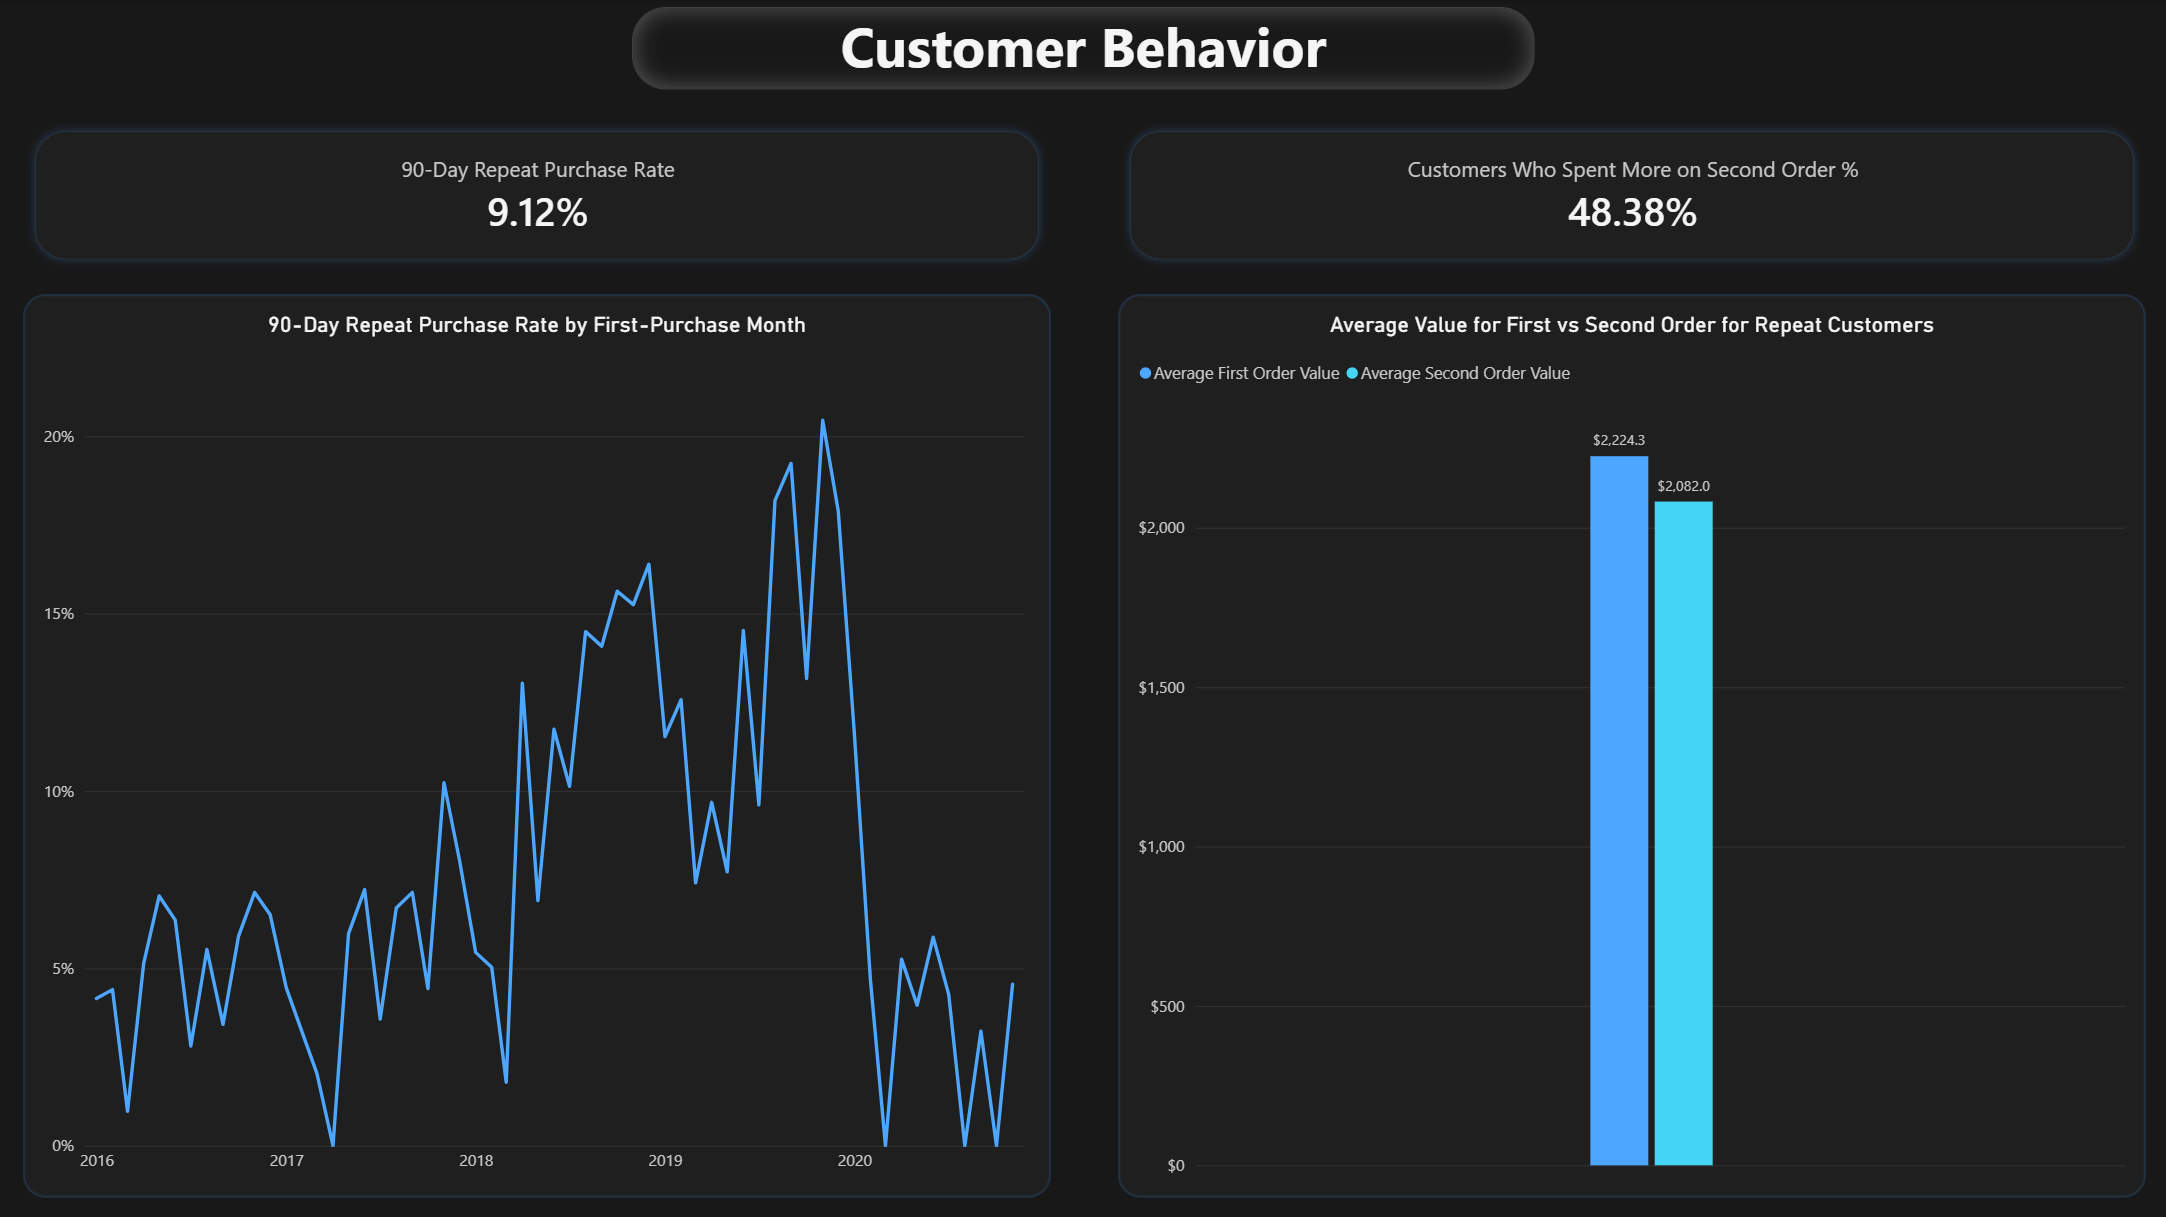

Layout of this report page (visuals, bound fields, positions):
{"tool":"powerbi","page":{"name":"Customer Behavior","canvas":[1920,1080],"ordinal":2},"visuals":[{"type":"textbox","box":[559.5,6.2,799.4,72.6],"z":0},{"type":"lineChart","title":"90-Day Repeat Purchase Rate by First-Purchase Month","fields":{"Category":["Repeat Purchase Cohorts.cohort_month"],"Y":["Sum(Repeat Purchase Cohorts.returned_within_90_days_rate)"]},"box":[20,260,910,800],"z":1000},{"type":"clusteredColumnChart","title":"Average Value for First vs Second Order for Repeat Customers","fields":{"Y":["_Measures.Average First Order Value","_Measures.Average Second Order Value"]},"box":[990,260,910,800],"z":2000},{"type":"cardVisual","fields":{"Data":["_Measures.90-Day Repeat Purchase Rate"]},"box":[20.1,105.1,910,135],"z":3000},{"type":"cardVisual","fields":{"Data":["_Measures.Customers Who Spent More on Second Order %"]},"box":[990.1,105.1,910,135],"z":4000}]}

Visuals, with their boxes in screenshot pixels (x1, y1, x2, y2), scaled from the page's 1920x1080 canvas onto the 2166x1217 screenshot:
textbox: box(631, 7, 1533, 89)
"90-Day Repeat Purchase Rate by First-Purchase Month" lineChart: box(23, 293, 1049, 1194)
"Average Value for First vs Second Order for Repeat Customers" clusteredColumnChart: box(1117, 293, 2143, 1194)
cardVisual - _Measures.90-Day Repeat Purchase Rate: box(23, 118, 1049, 271)
cardVisual - _Measures.Customers Who Spent More on Second Order %: box(1117, 118, 2144, 271)
